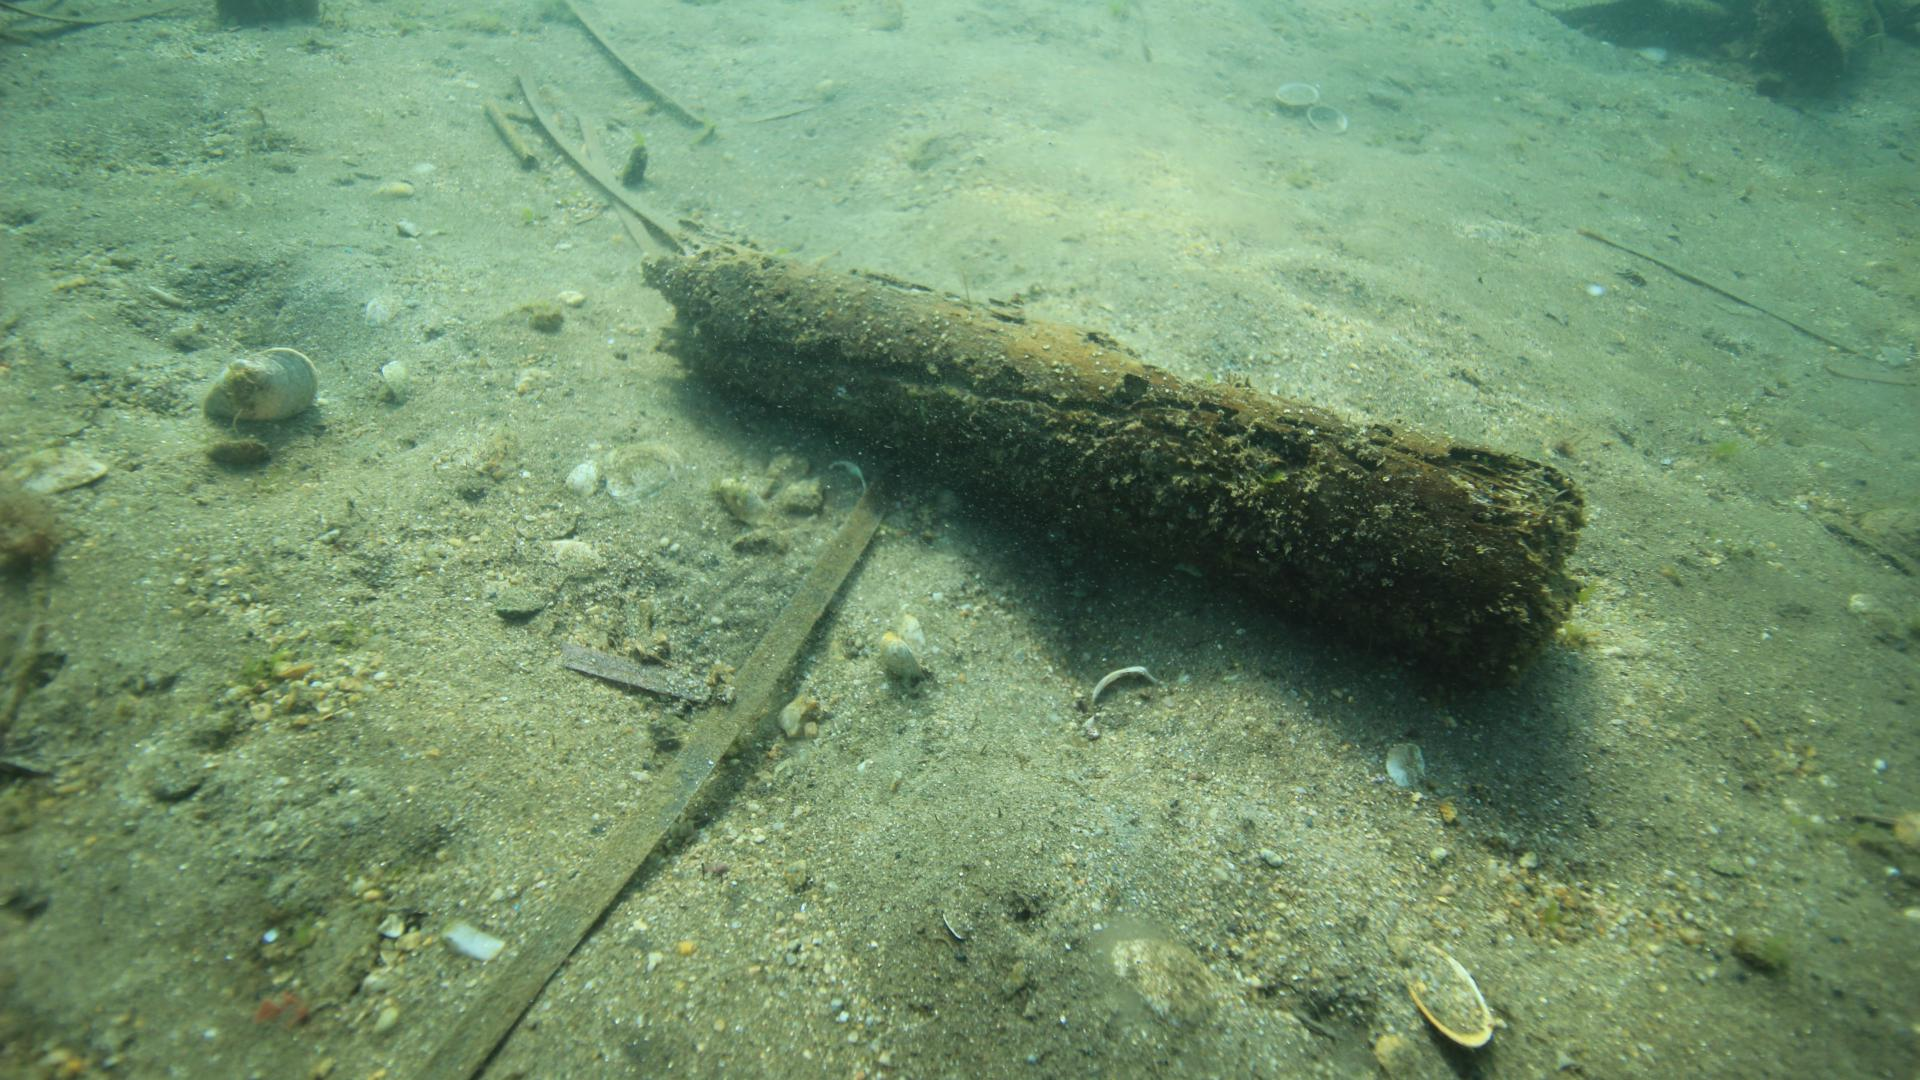wood: (637, 218, 1586, 669)
